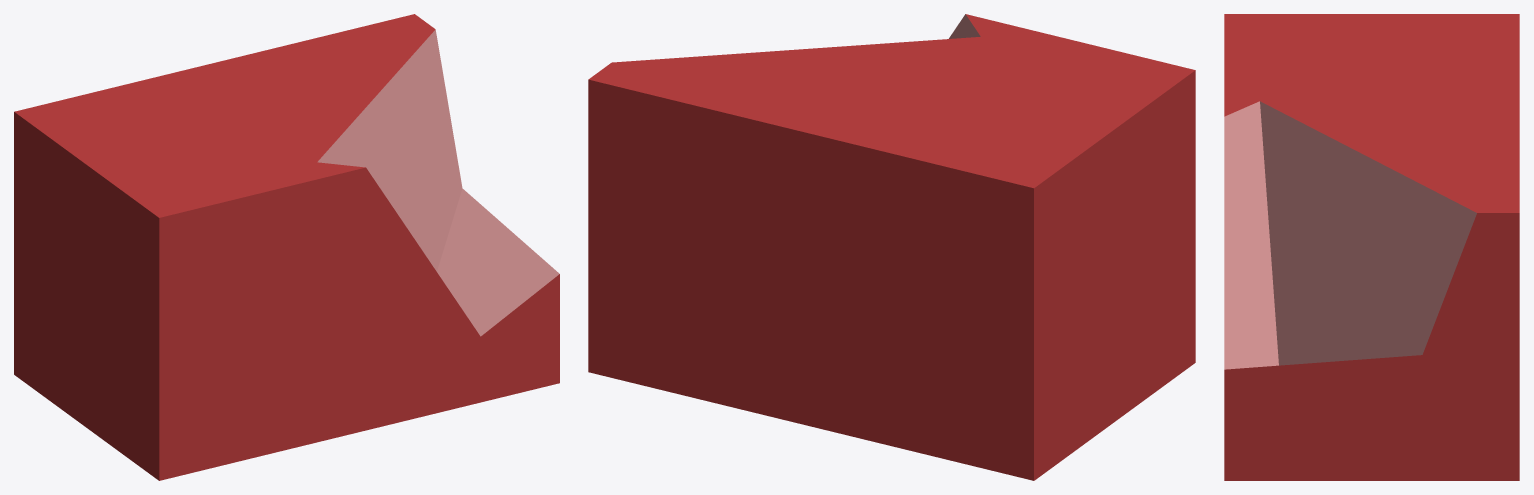
3 views of the same model, side by side, from view 1: azimuth 30°, elevation 25°; view 2: azimuth 150°, elevation 25°; view 3: azimuth 270°, elevation 25° (orthographic). The views are drawn at different scales.
Visible parts, largest first — view 1: base; view 2: base; view 3: base.
Boxes of the visible parts, box(x1,y1,x2,y2) form: base: box(14, 14, 559, 480); base: box(588, 14, 1195, 480); base: box(1224, 14, 1519, 480).
Size of the model in its own units: 92.98 by 58.33 by 58.33.
